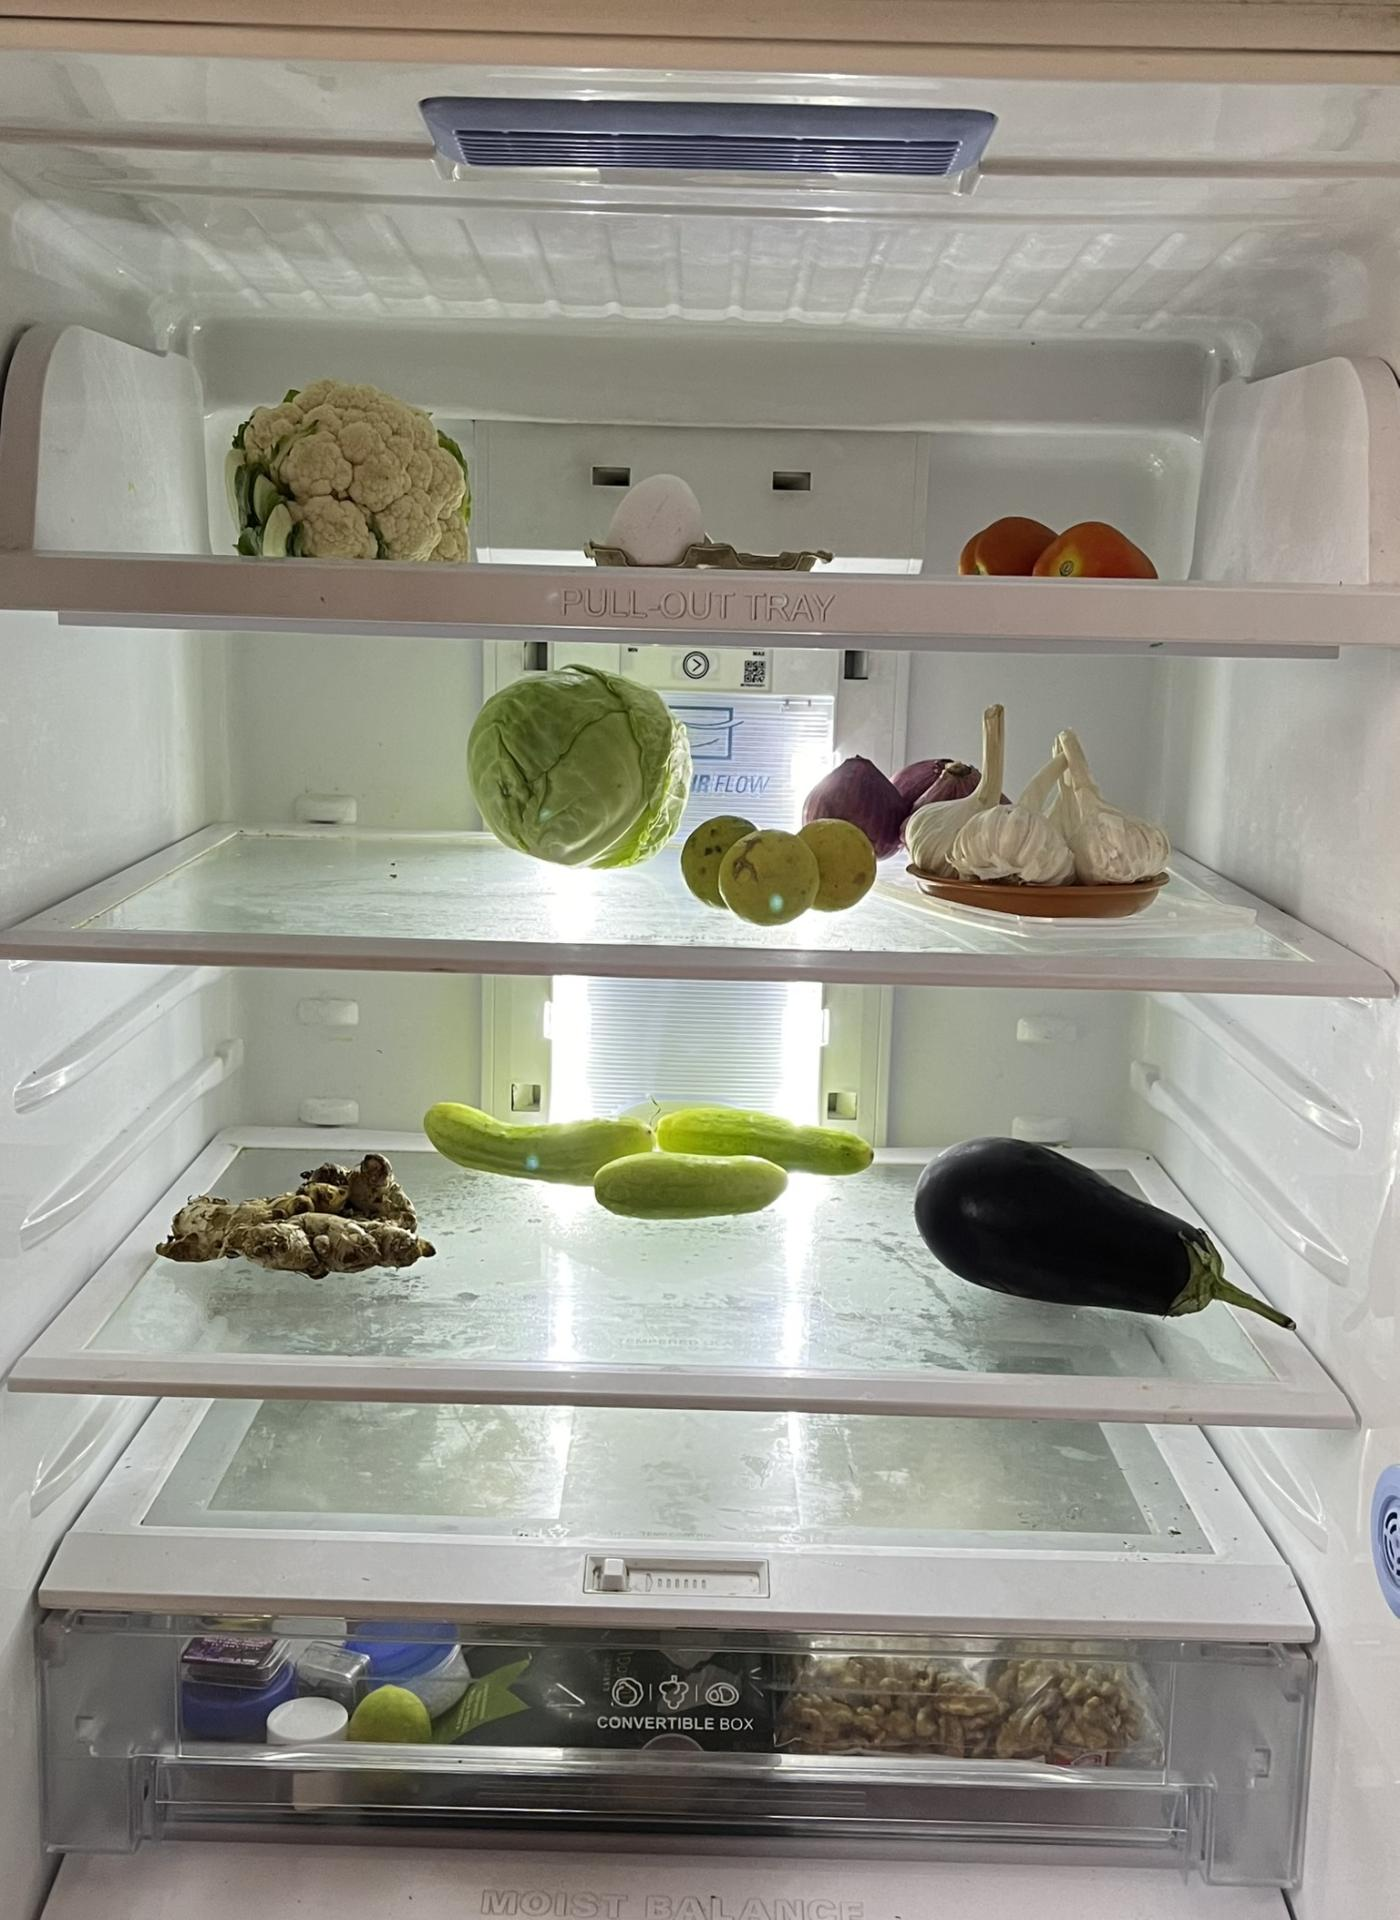cabbage: (465, 659, 690, 875)
cauliflower: (222, 371, 474, 559)
cucumber: (428, 1094, 887, 1215)
egg: (601, 476, 702, 575)
garlic: (911, 704, 1160, 891)
ginger: (167, 1146, 413, 1272)
lemon: (675, 809, 884, 921)
onion: (790, 747, 993, 824)
tomato: (957, 510, 1164, 575)
